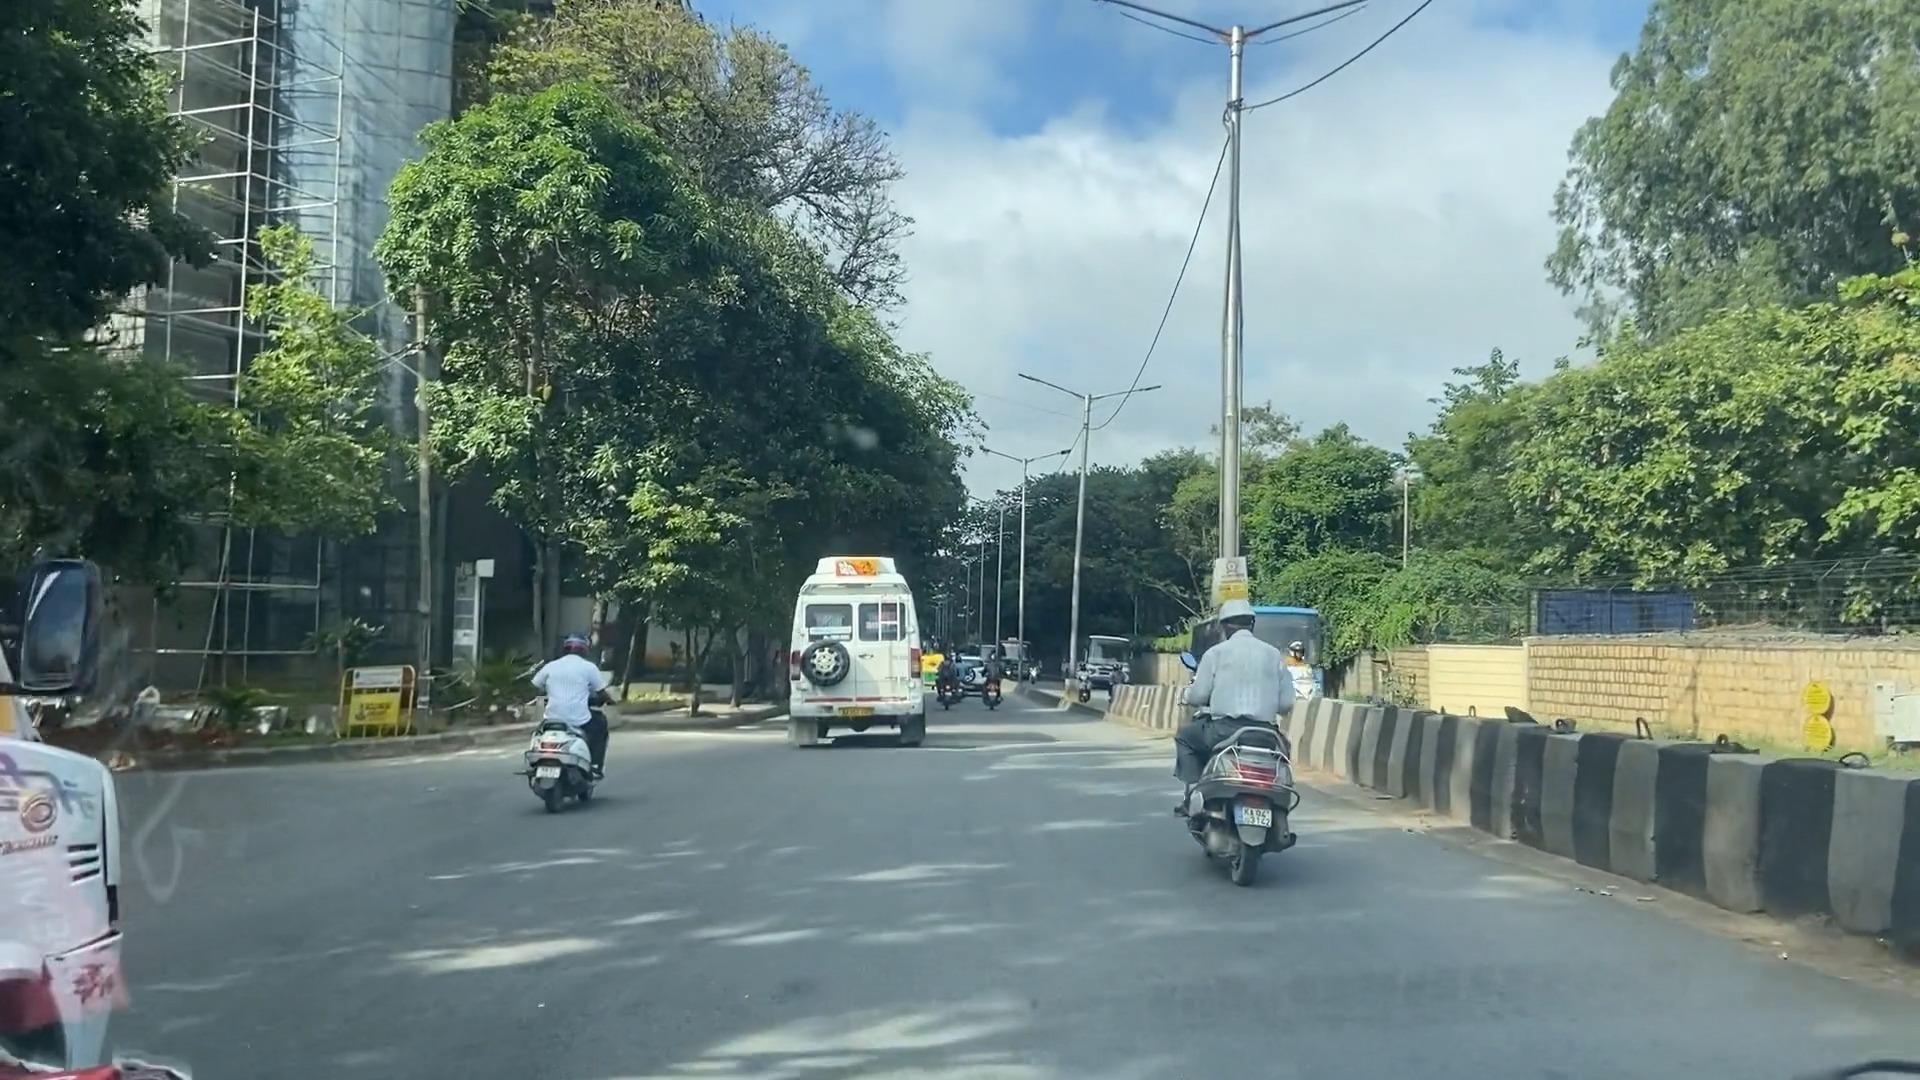HMV: (786, 555, 947, 765)
LMV: (1175, 597, 1303, 889), (546, 633, 625, 820)
